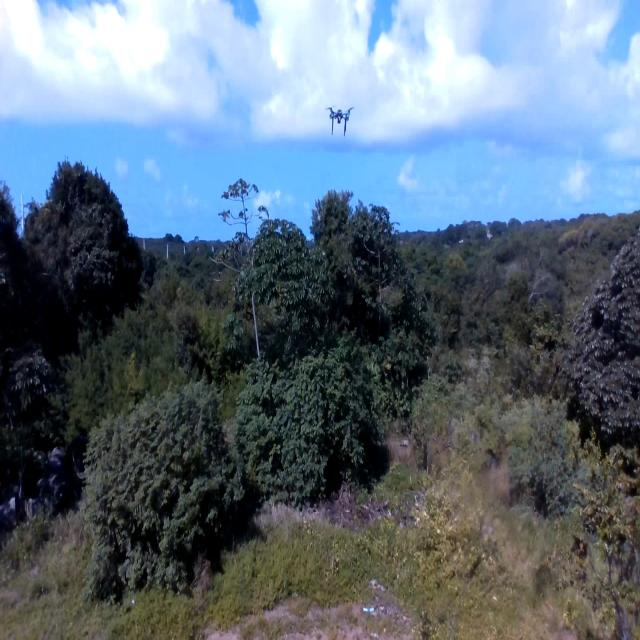-uav-: (317, 96, 361, 142)
